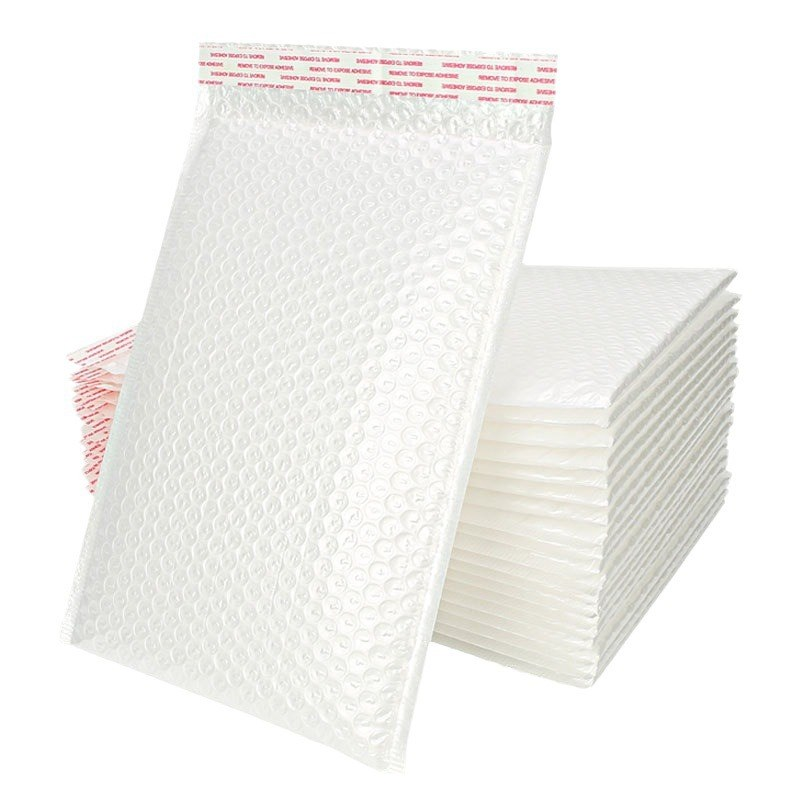Parcel: (72, 46, 554, 764), (430, 267, 743, 687)
